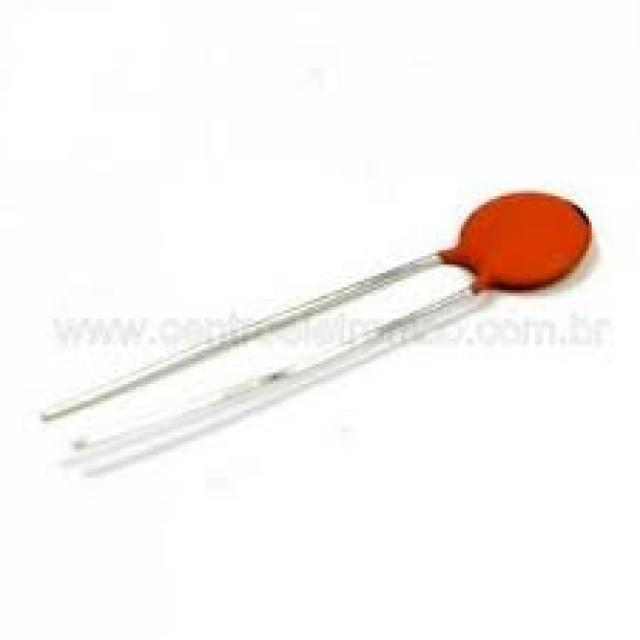Capacitor: (438, 193, 594, 293)
